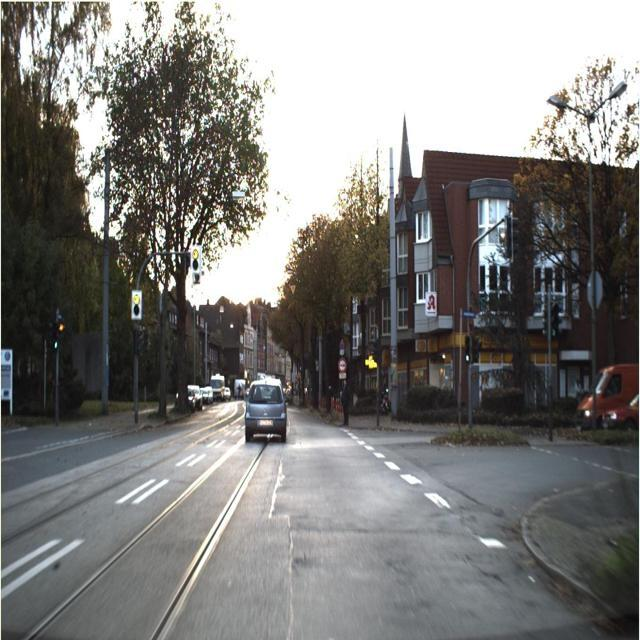forb_overtake: (338, 357, 347, 373)
